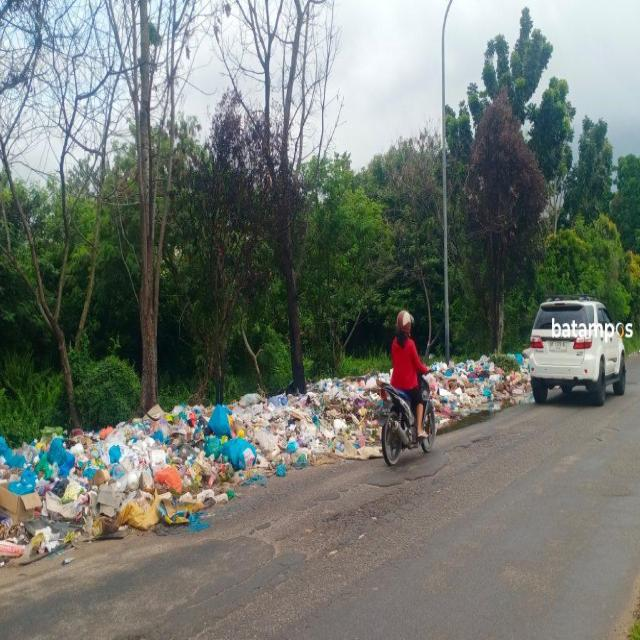trash: (0, 394, 343, 562)
